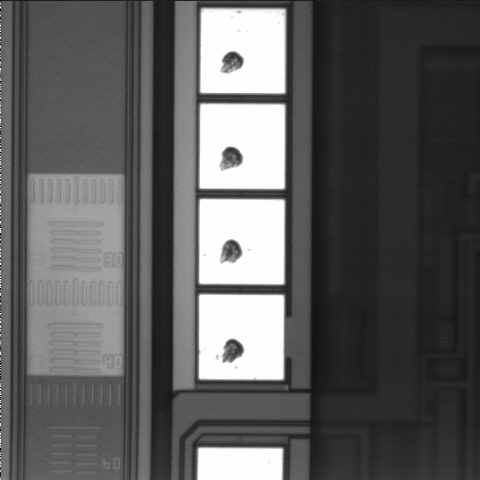pad: (199, 199, 285, 284), (200, 104, 285, 189), (199, 295, 284, 380), (200, 9, 285, 93)
